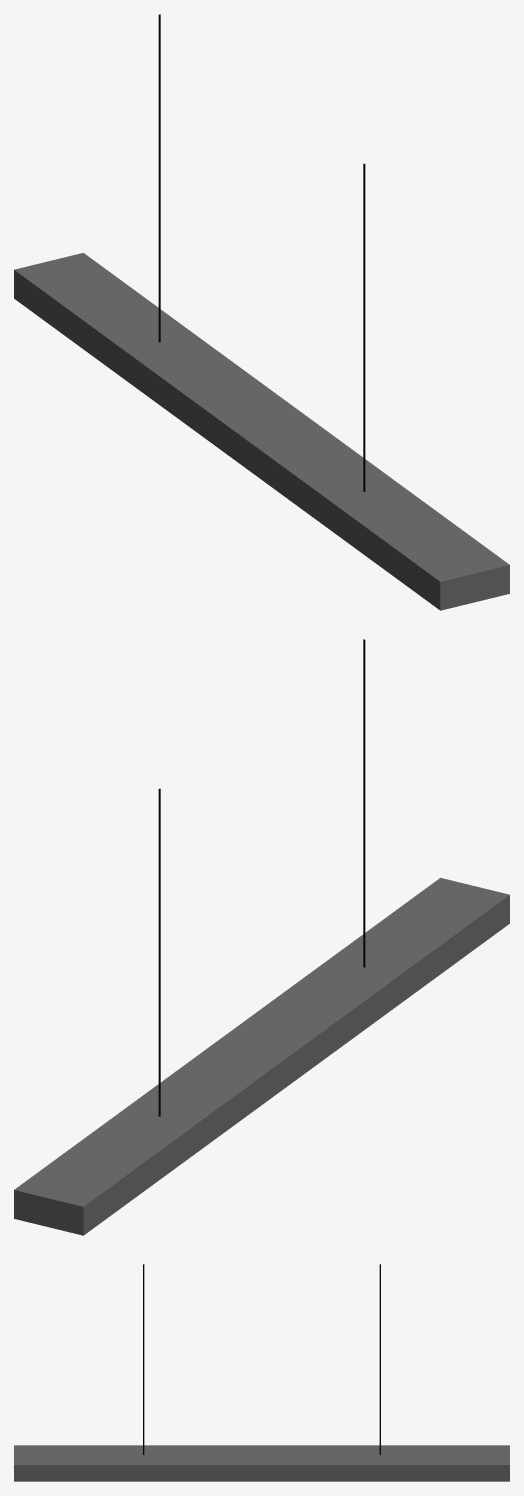
File: FluorescentLamp.fbx
The picture shows the model from 3 angles, top to bottom: view 1: azimuth 30°, elevation 25°; view 2: azimuth 150°, elevation 25°; view 3: azimuth 270°, elevation 25°; orthographic projection. The views are drawn at different scales.
Parts seen in each view (by area): view 1: Cube; view 2: Cube; view 3: Cube.
Part boxes in pixels (x1,y1,x2,y2): Cube: (14,14,509,610); Cube: (14,639,509,1235); Cube: (14,1264,509,1481).
Size of the model in its own units: 11.61 by 56.91 by 123.
